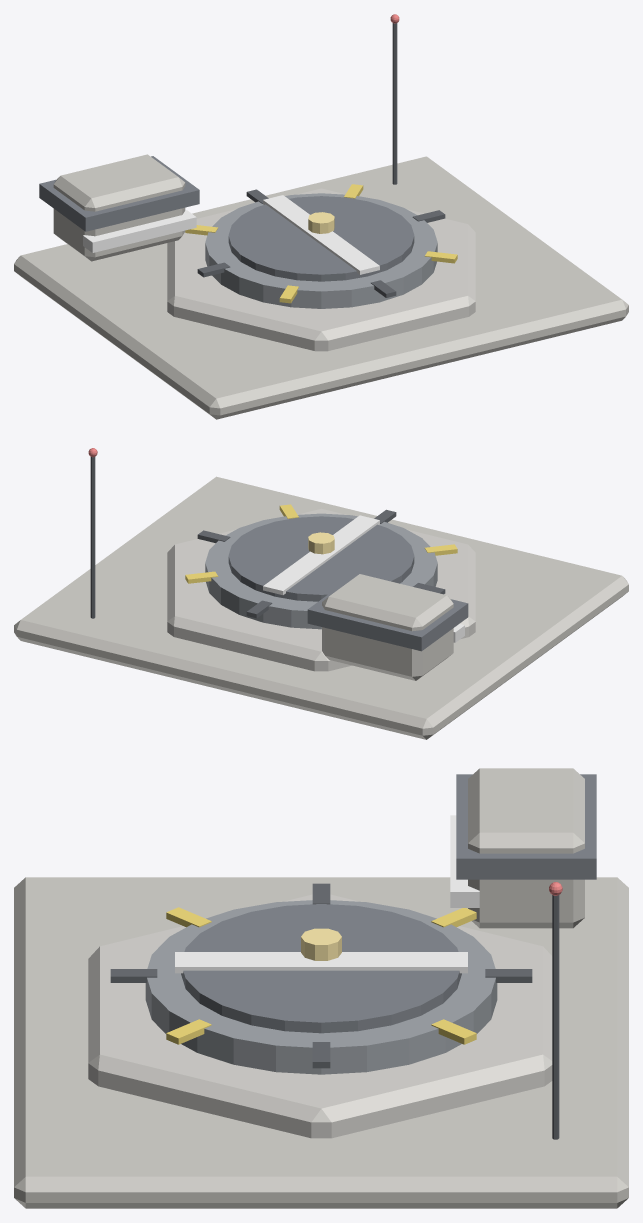
The model's file is silo.glb.
The picture shows the model from 3 angles, top to bottom: view 1: azimuth 30°, elevation 25°; view 2: azimuth 150°, elevation 25°; view 3: azimuth 270°, elevation 25°; orthographic projection. The views are drawn at different scales.
Parts seen in each view (by area): view 1: main; view 2: main, crystal; view 3: main, crystal.
Part boxes in pixels (box(x1,y1,x2,y2)): main: box(14, 14, 628, 419); main: box(14, 448, 628, 739); crystal: box(308, 532, 334, 554); main: box(14, 768, 628, 1208); crystal: box(301, 928, 341, 960).
Size of the model in its own units: 1.25 by 0.542 by 1.05.
